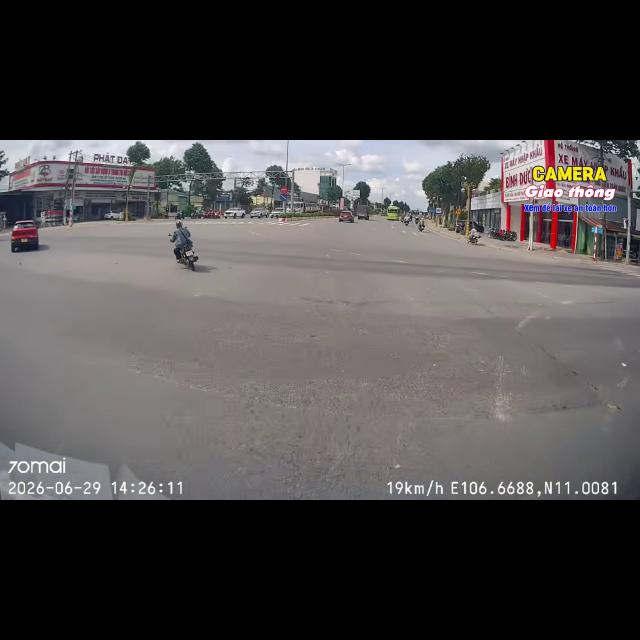bus: (293, 202, 318, 212), (387, 206, 399, 220)
car: (11, 220, 38, 252), (224, 208, 245, 218), (250, 208, 268, 218), (339, 211, 354, 222), (104, 210, 121, 219), (470, 221, 483, 232), (270, 208, 283, 218)
motorcycle: (180, 245, 198, 271), (467, 233, 479, 244), (175, 213, 183, 219), (419, 225, 424, 231), (404, 220, 409, 225), (415, 218, 418, 224)
truck: (356, 205, 369, 220)
